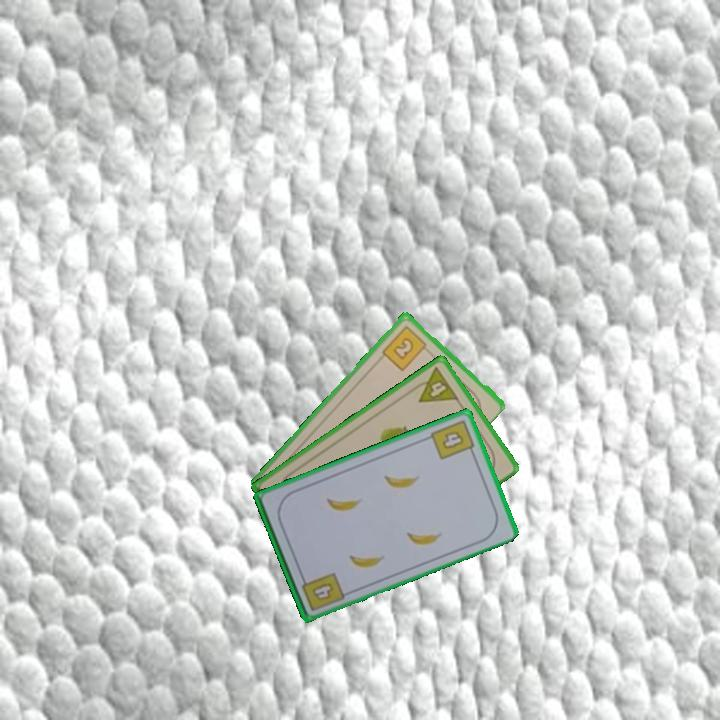2b: (378, 322, 433, 373)
4b: (427, 416, 478, 463), (297, 568, 347, 614)
4p: (408, 363, 461, 406)
